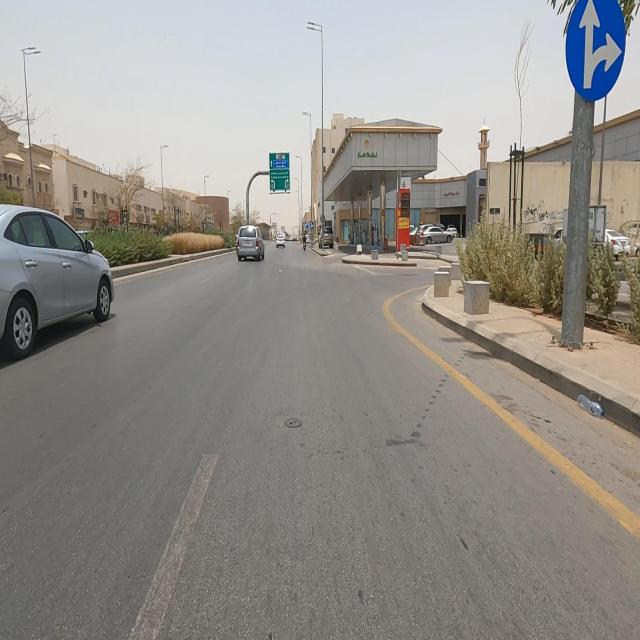Graffiti: (524, 202, 564, 235), (620, 220, 640, 238)
